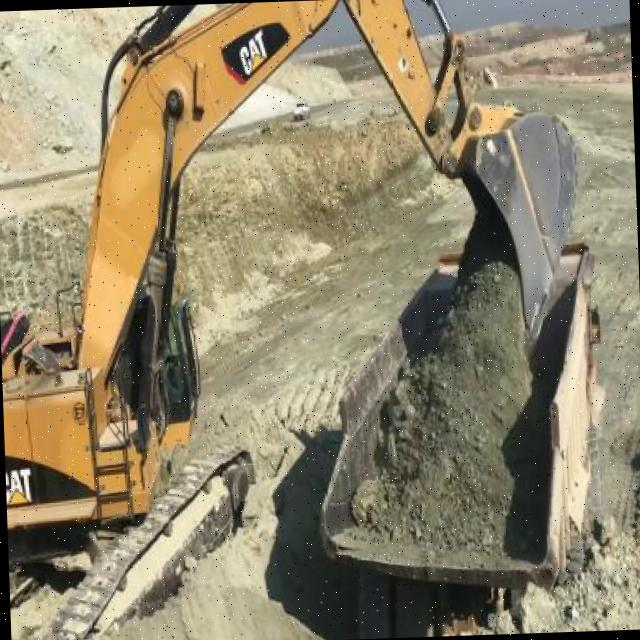Dump Truck: (310, 235, 606, 640)
Excavator: (0, 0, 594, 631)
